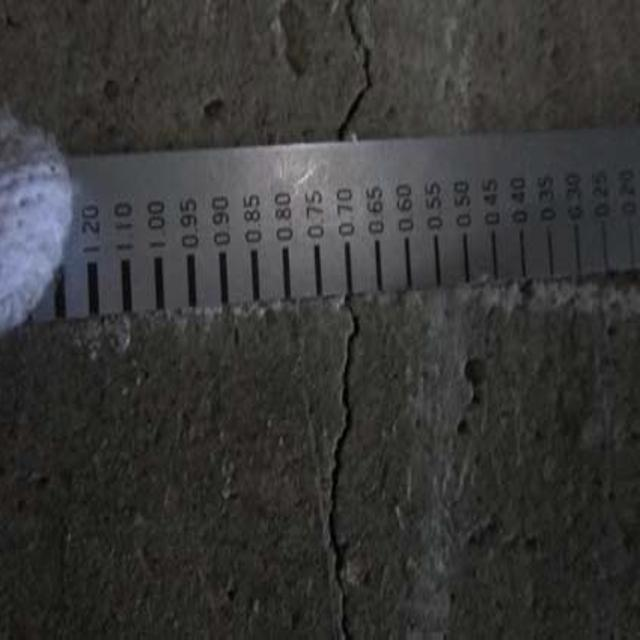crack: (304, 307, 394, 633), (316, 14, 384, 140)
